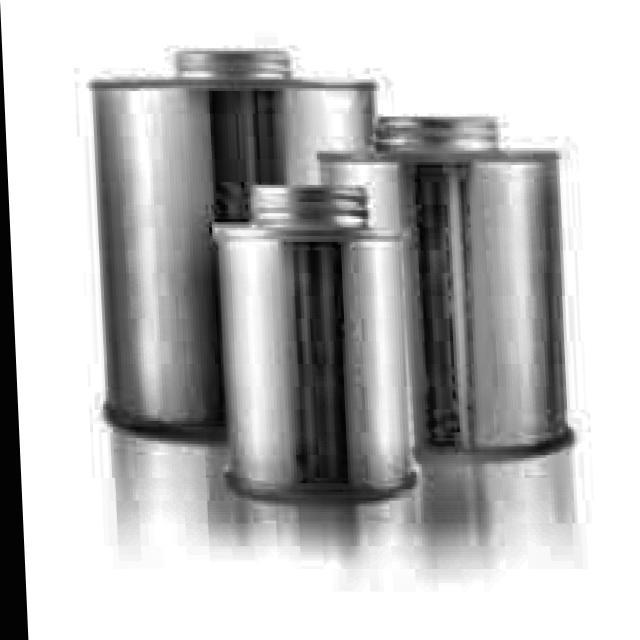litter: (78, 42, 396, 449), (305, 107, 578, 471), (198, 178, 424, 510)
